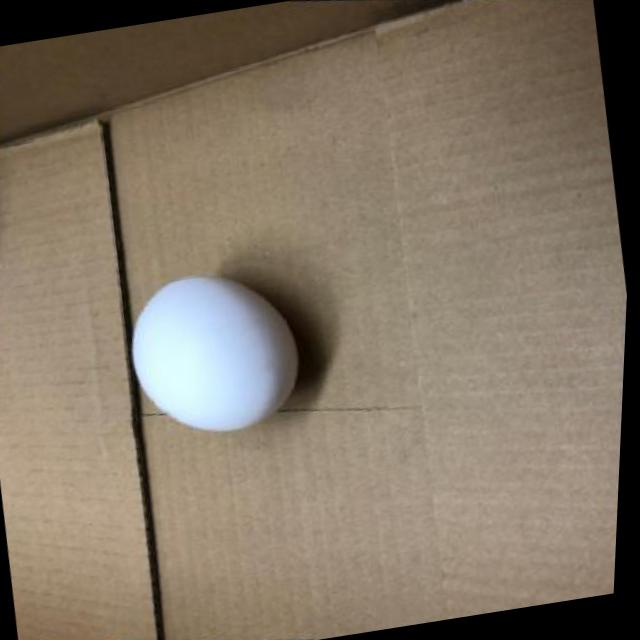egg: (110, 254, 322, 452)
